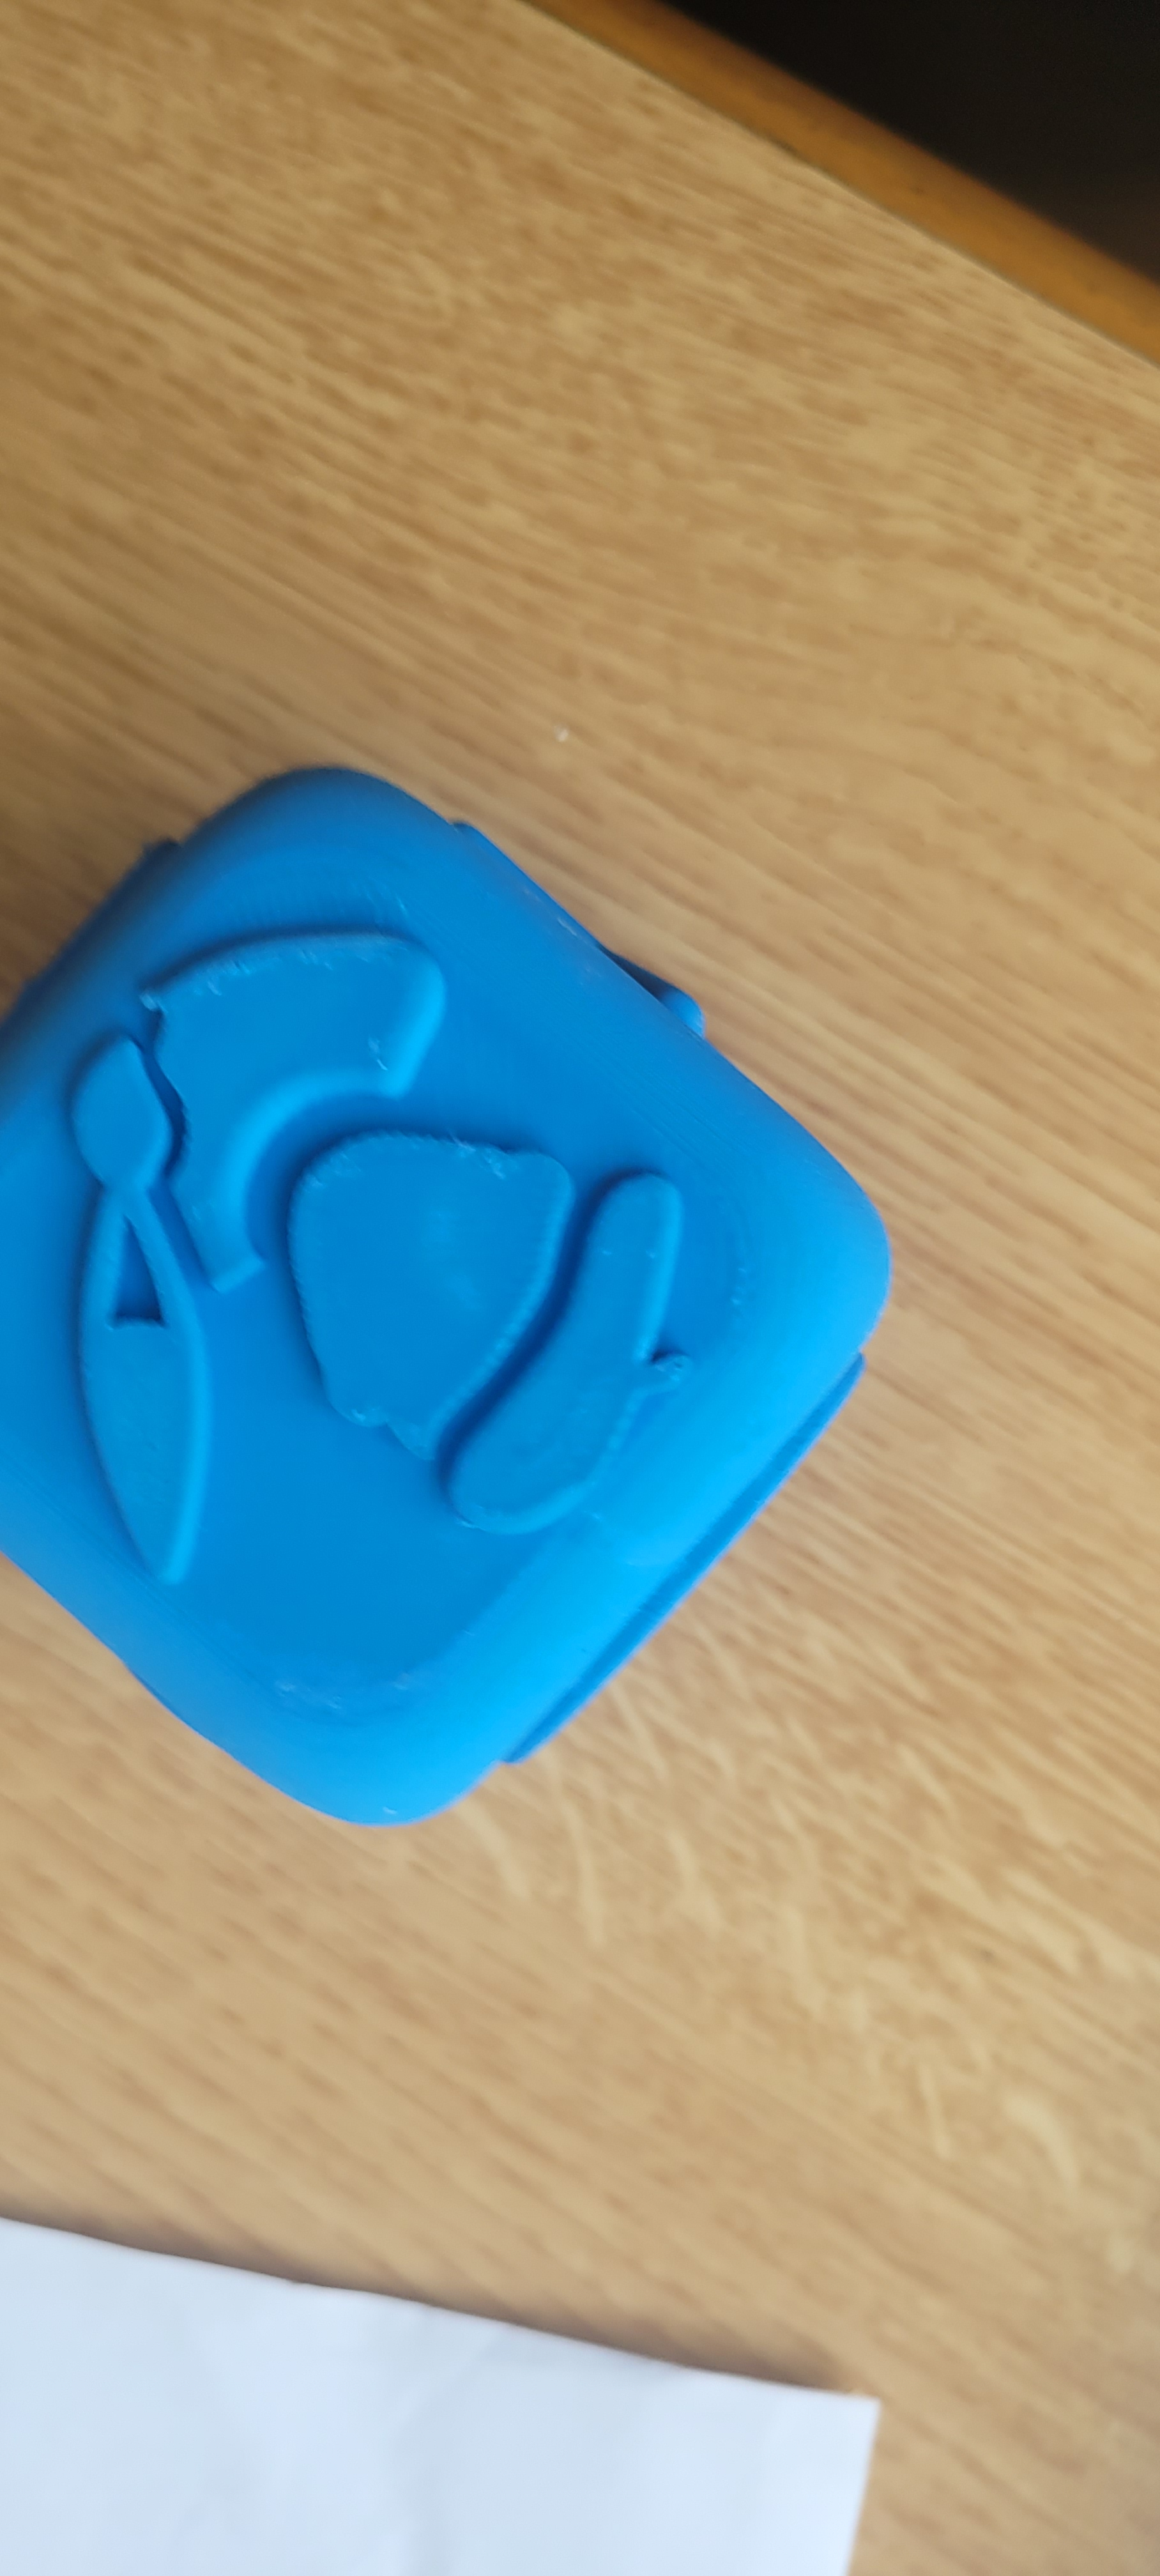Artist_Info: (20, 864, 790, 1712)
